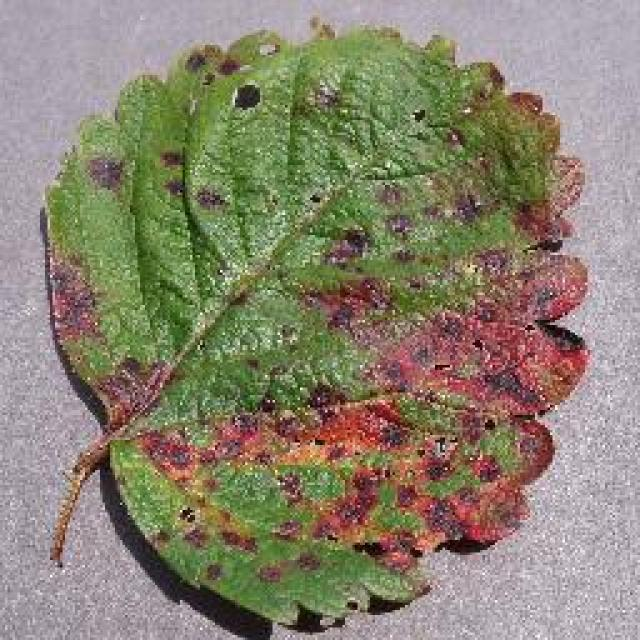Strawberry leaf scorch: (51, 73, 572, 532)
